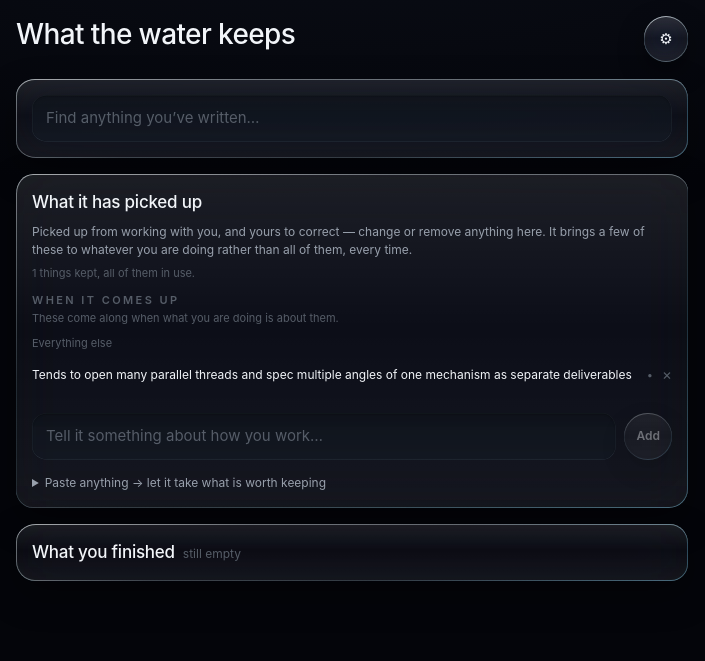
Test: a memory you can scan › reads first and edits second, the way a thing in the sky does
Click the button "Tends to open many parallel th" at (335, 375), box [32,355,639,395]
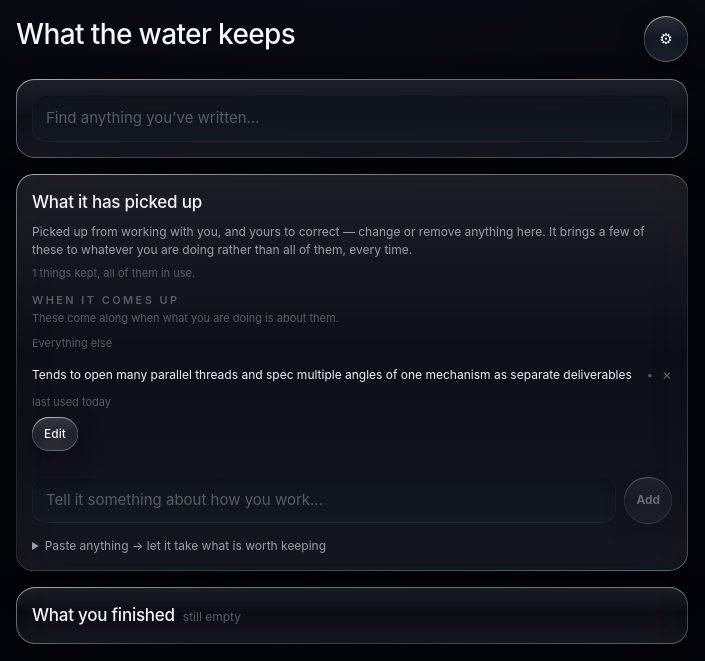
Click the button "Edit" at (55, 434), box [32,417,78,451]
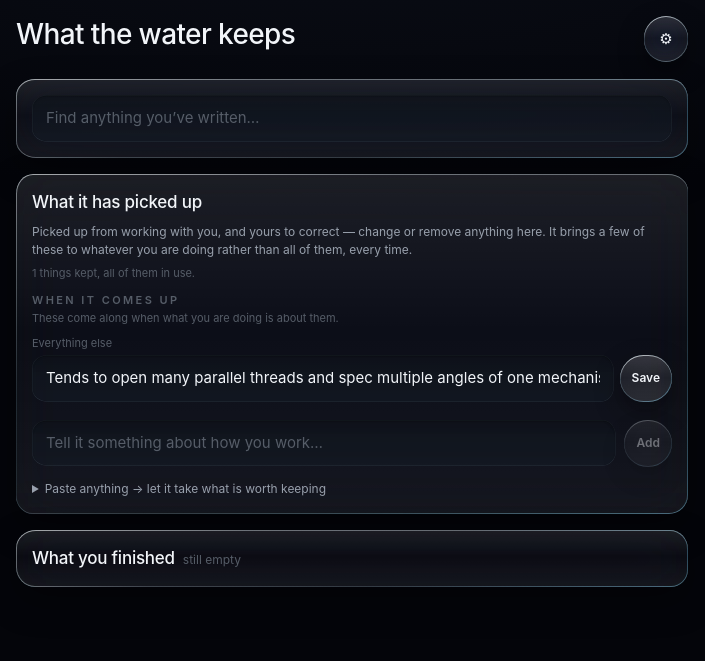
Expected: the field named "What it remembers" is shown, [32,355,614,402]
